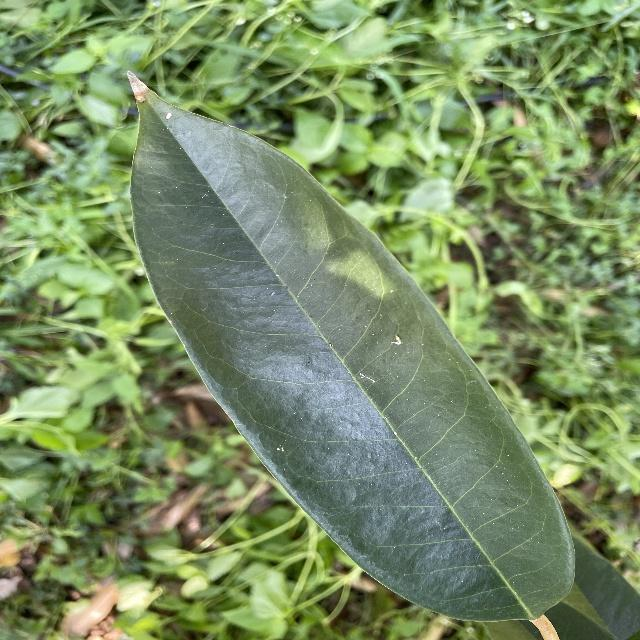No Disease: (118, 65, 585, 631)
